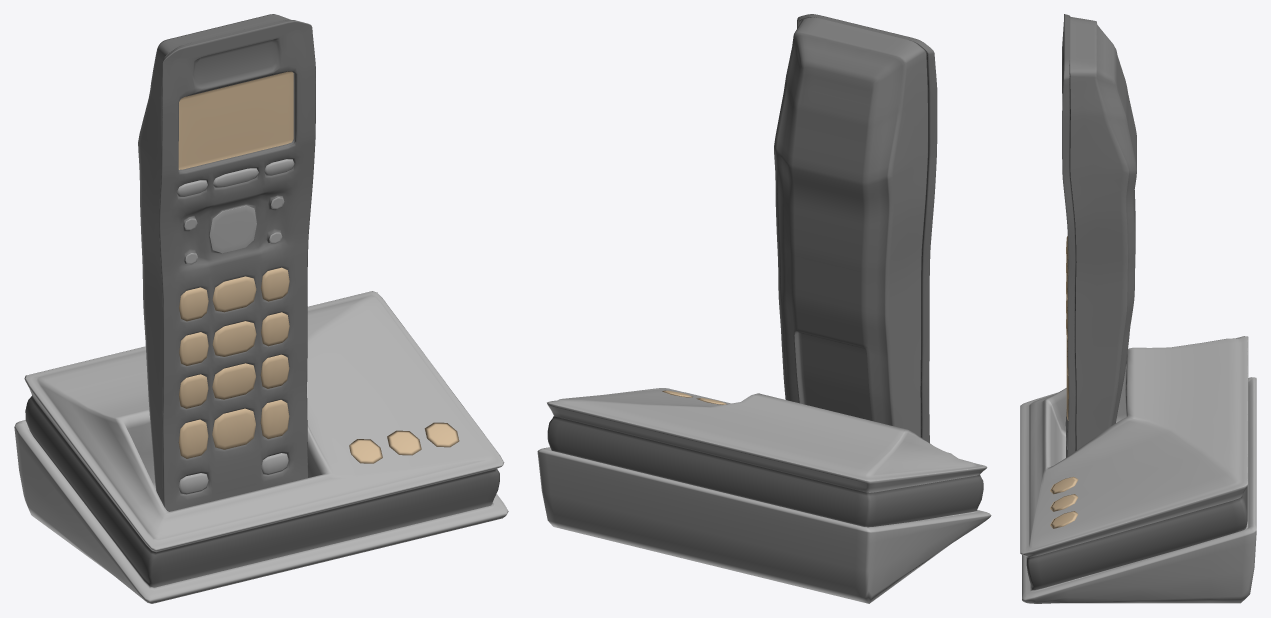
File: Cordless_Phone.fbx
3 renders of one model, left to right at view 1: azimuth 30°, elevation 25°; view 2: azimuth 150°, elevation 25°; view 3: azimuth 270°, elevation 25°, orthographic. The views are drawn at different scales.
Visible parts, largest first — view 1: Phone, Phone_Base, Phone_Base_Button2, Phone_Base_Button3, Phone_Base_Button1; view 2: Phone_Base, Phone; view 3: Phone_Base, Phone.
Part boxes in pixels (<box>): Phone: <box>138,14,315,511</box>; Phone_Base: <box>14,291,508,603</box>; Phone_Base_Button2: <box>387,430,421,455</box>; Phone_Base_Button3: <box>424,422,459,447</box>; Phone_Base_Button1: <box>349,439,382,463</box>; Phone_Base: <box>537,388,991,603</box>; Phone: <box>774,14,937,442</box>; Phone_Base: <box>1020,336,1256,603</box>; Phone: <box>1062,14,1136,457</box>.
Bounding box in the file's own units: 13.68 × 18.93 × 8.78.
